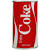coke: (17, 2, 32, 37)
